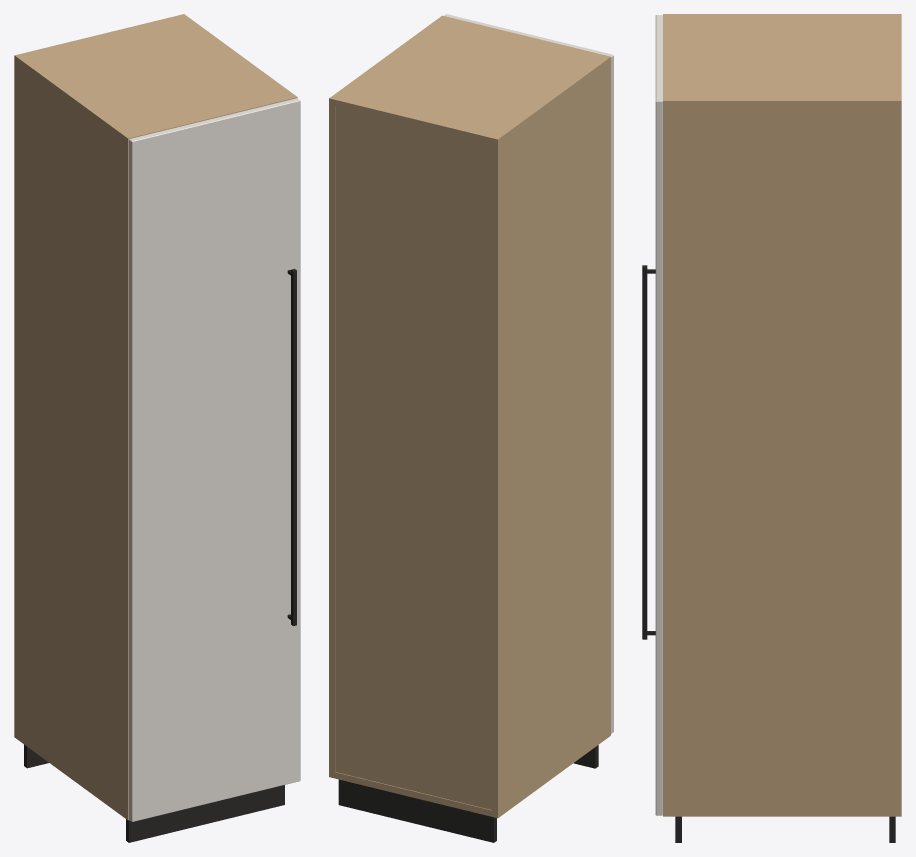
Rendered from 08_szafa_1d_50.glb.
The picture shows the model from 3 angles, left to right: view 1: azimuth 30°, elevation 25°; view 2: azimuth 150°, elevation 25°; view 3: azimuth 270°, elevation 25°; orthographic projection. The views are drawn at different scales.
Visible parts, largest first — view 1: Front_drzwi_1, Korpus, Cokol, Uchwyty; view 2: Korpus, Cokol, Front_drzwi_1; view 3: Korpus, Front_drzwi_1, Uchwyty.
Part boxes in pixels (left/top/right/bottom): Front_drzwi_1: left=129, top=98, right=300, bottom=821; Korpus: left=14, top=14, right=297, bottom=820; Cokol: left=24, top=744, right=284, bottom=842; Uchwyty: left=287, top=269, right=296, bottom=625; Korpus: left=329, top=15, right=610, bottom=818; Cokol: left=338, top=745, right=598, bottom=842; Front_drzwi_1: left=444, top=14, right=613, bottom=733; Korpus: left=663, top=14, right=901, bottom=816; Front_drzwi_1: left=655, top=15, right=662, bottom=815; Uchwyty: left=642, top=265, right=655, bottom=639.
Size of the model in its own units: 0.5 by 2 by 0.63.
